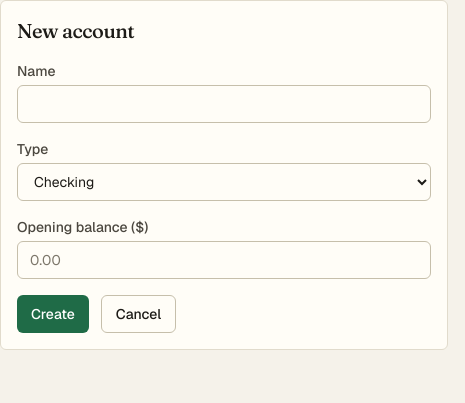
Test: AccountForm › shows the toast when the API rejects
Type "X" into the field labelled "Name" at (224, 104), box [17, 85, 431, 123]
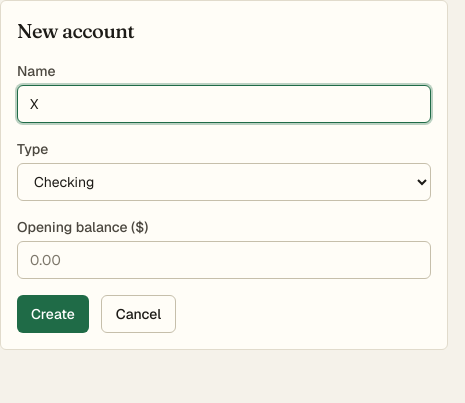
Click the button "Create" at (53, 314), box [17, 295, 89, 333]
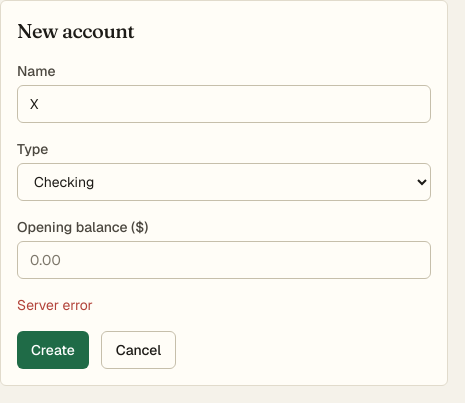
Now the text "Server error" is shown, box [17, 296, 93, 314]
